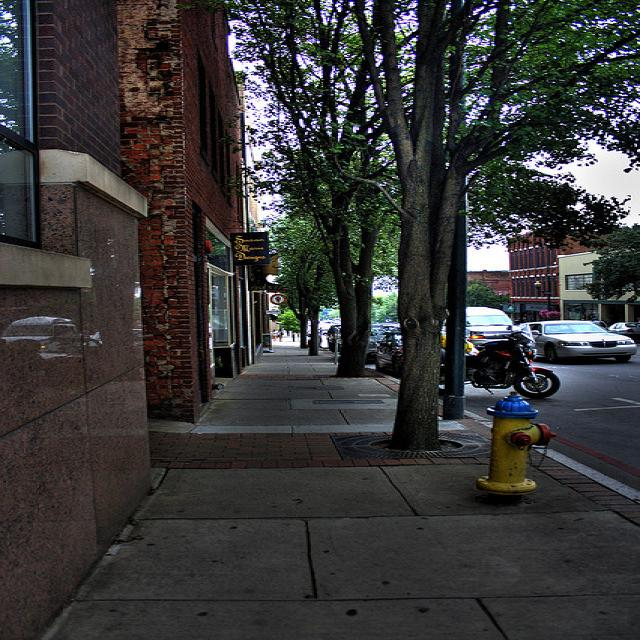motor: (464, 324, 562, 396)
